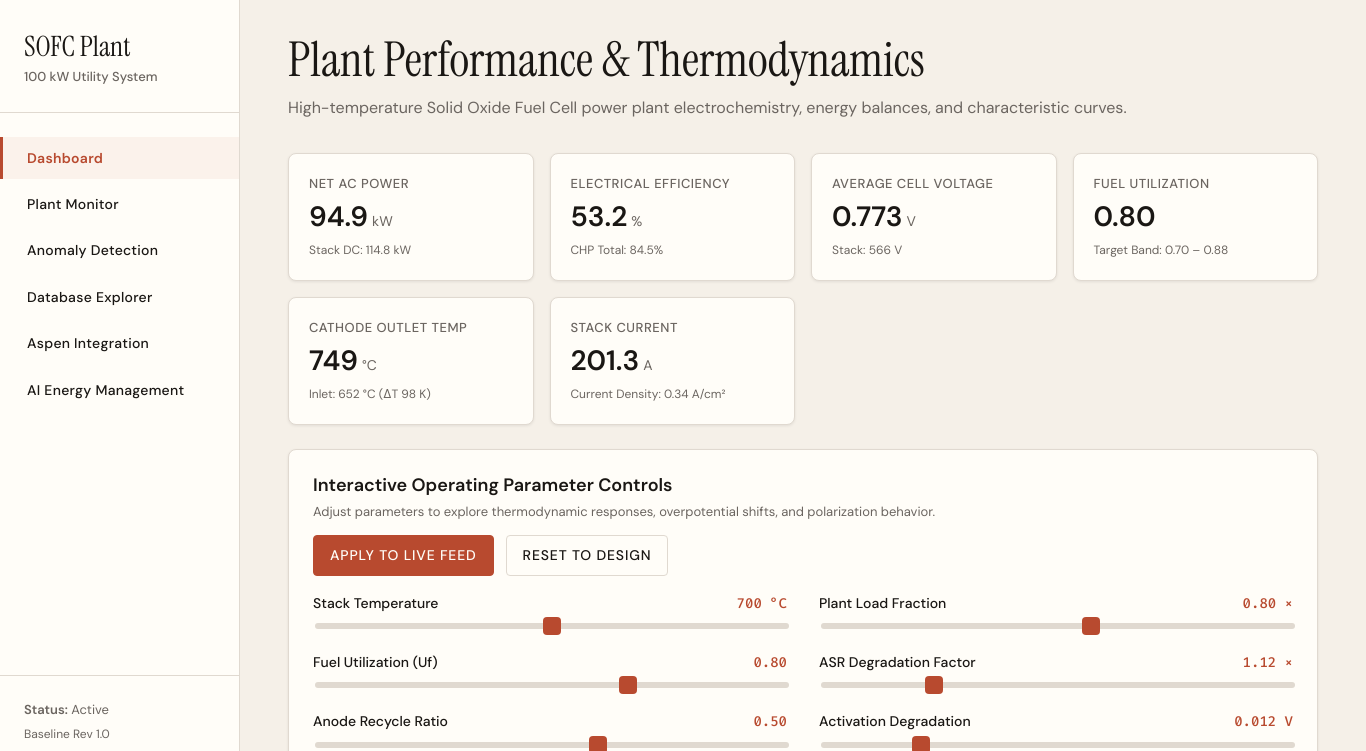
it: SOFC Monitor Routed App › navigates to Plant Monitor and displays all six utilities with active alerts
The width and height of the screenshot is (1366, 751).
Click the link "Plant Monitor".
click(73, 204)  # box [27,195,119,213]
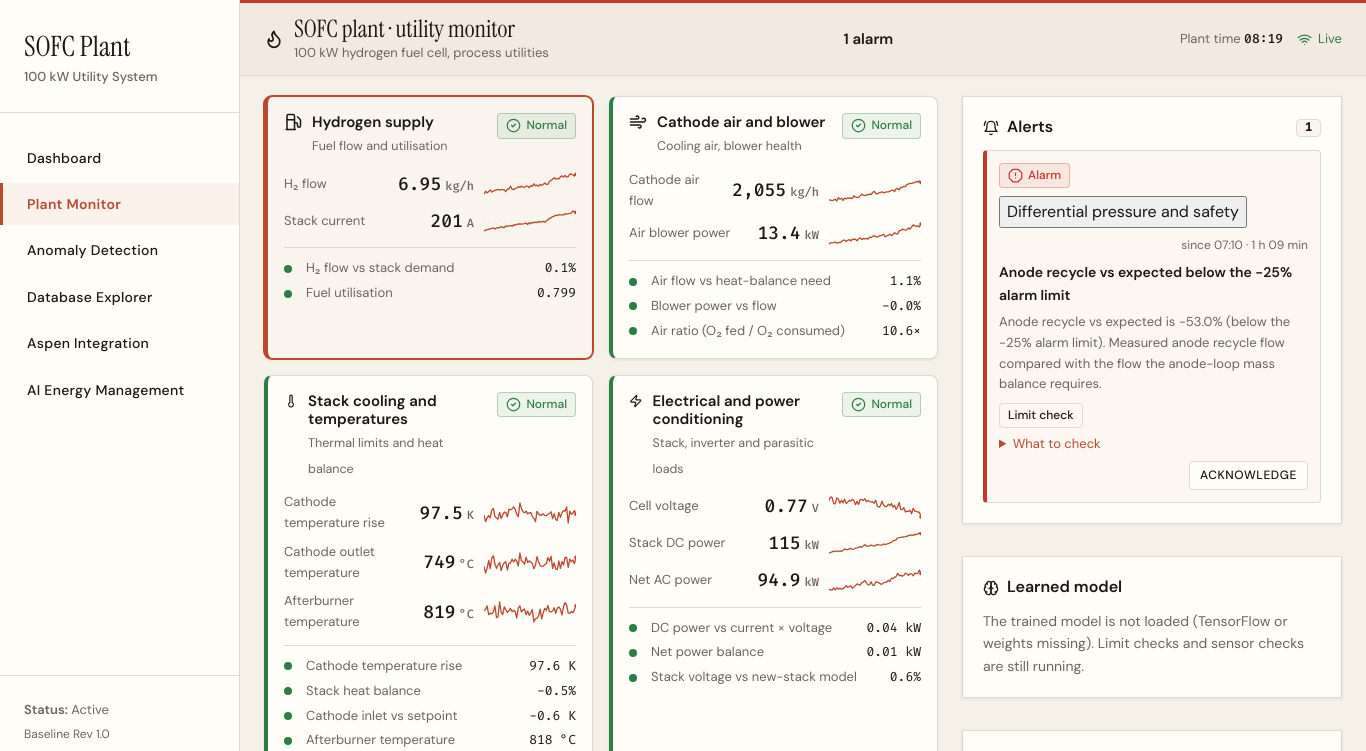
Expected: the text "Hydrogen supply" is shown, [312,113,448,132]
Expected: the text "Cathode air and blower" is shown, [657,113,825,132]
Expected: the text "Stack cooling and temperatures" is shown, [308,390,437,429]
